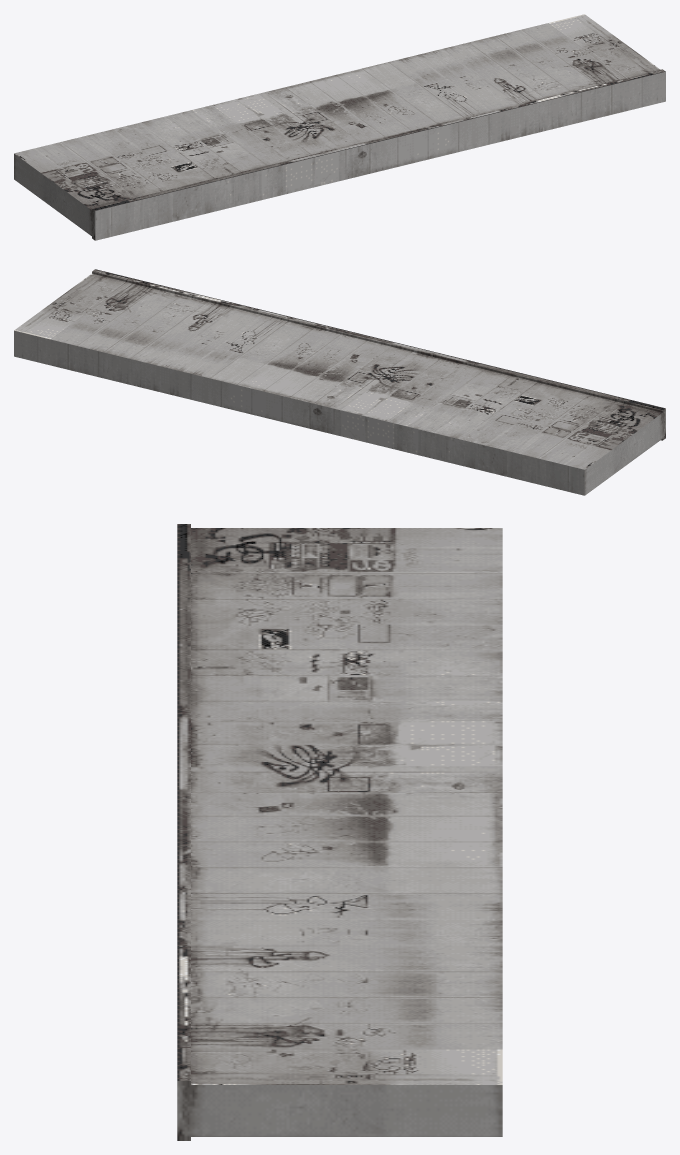
The model's file is Wall.glb.
3 renders of one model, top to bottom at view 1: azimuth 30°, elevation 25°; view 2: azimuth 150°, elevation 25°; view 3: azimuth 270°, elevation 25°, orthographic. The views are drawn at different scales.
Parts seen in each view (by area): view 1: Wall; view 2: Wall; view 3: Wall.
Boxes of the visible parts, x1=… form: Wall: x1=14, y1=14, x2=665, y2=240; Wall: x1=14, y1=269, x2=665, y2=495; Wall: x1=177, y1=524, x2=502, y2=1140.
Size of the model in its own units: 6.72 by 0.3358 by 1.66.
1 material, 1 textured.
